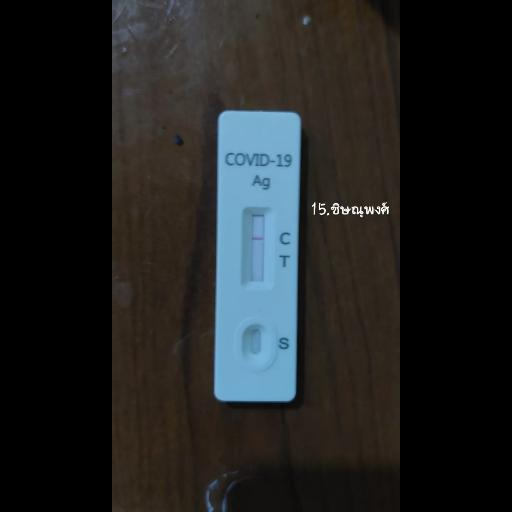Neg: (215, 110, 301, 400)
